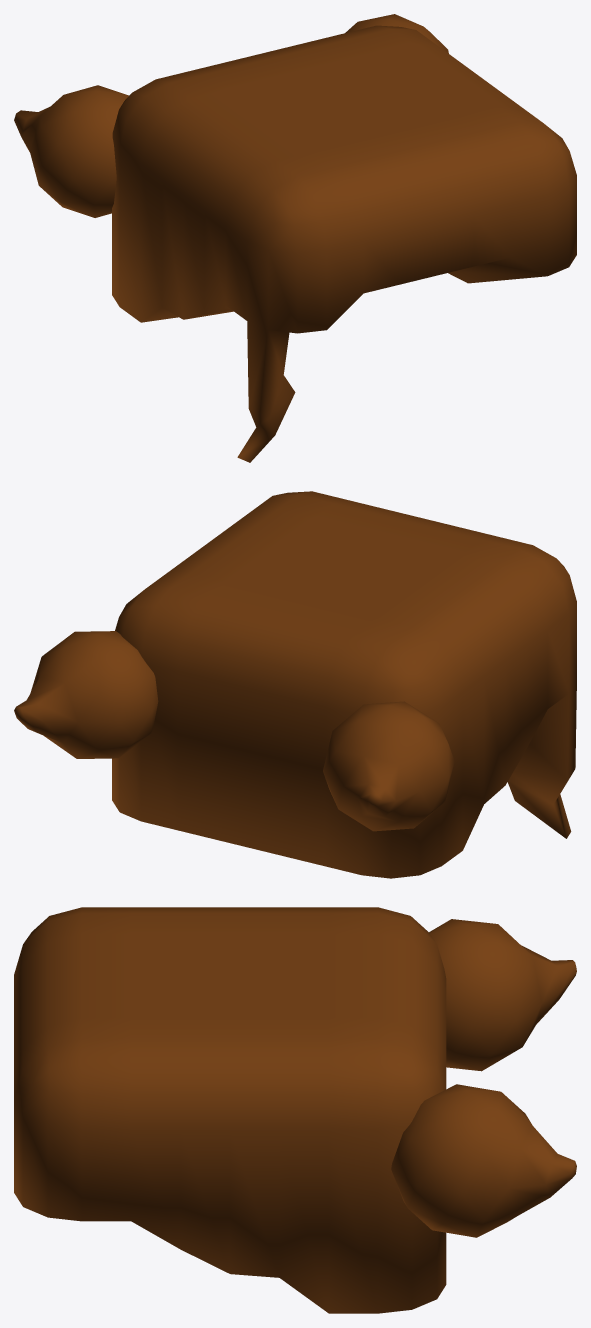
File: hairPigtails.fbx
3 renders of one model, top to bottom at view 1: azimuth 30°, elevation 25°; view 2: azimuth 150°, elevation 25°; view 3: azimuth 270°, elevation 25°, orthographic. The views are drawn at different scales.
Visible parts, largest first — view 1: Pigtail Hair; view 2: Pigtail Hair; view 3: Pigtail Hair.
Part boxes in pixels (box(x1,y1,x2,y2)): Pigtail Hair: box(14, 14, 576, 462); Pigtail Hair: box(14, 491, 576, 878); Pigtail Hair: box(14, 907, 576, 1313).
Bounding box in the file's own units: 70.36 × 72.29 × 44.88.
